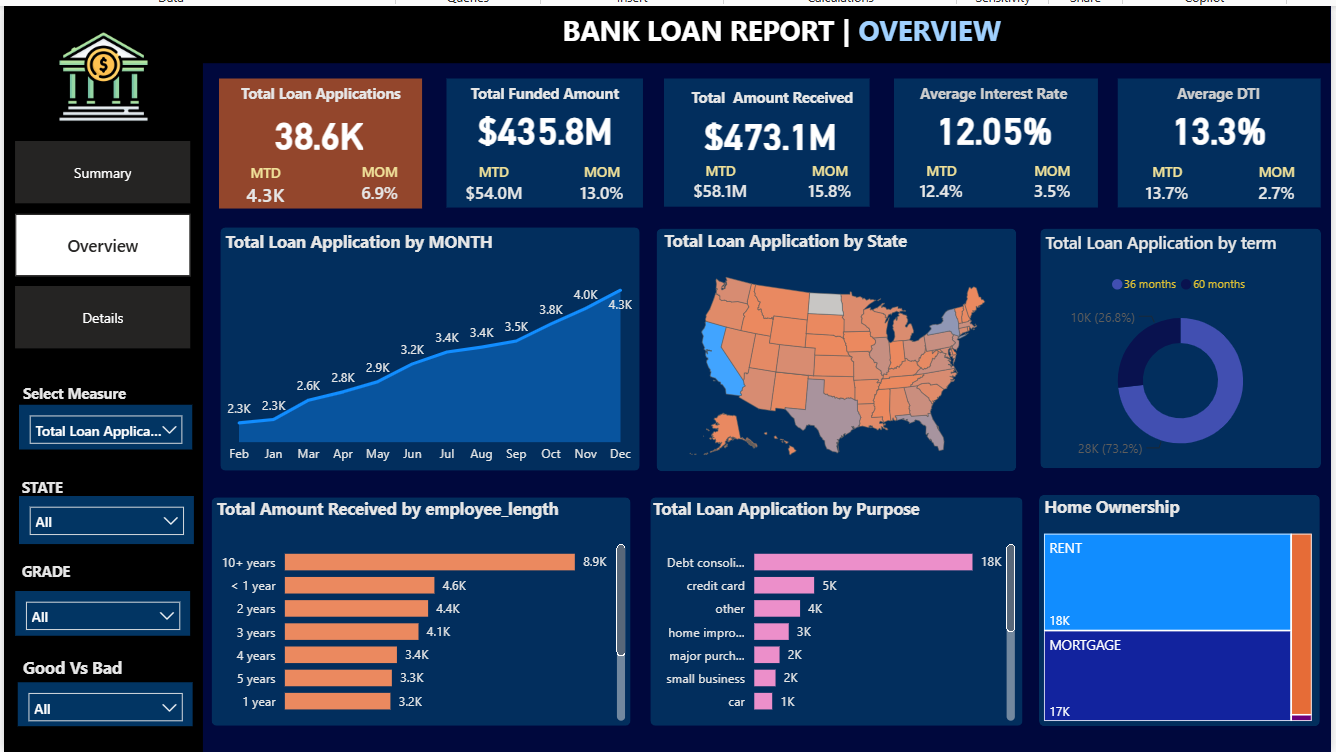

Layout of this report page (visuals, bound fields, positions):
{"tool":"powerbi","page":{"name":"Overview","canvas":[1280,720],"ordinal":1},"visuals":[{"type":"shape","box":[0,0,192.3,720.8],"z":0},{"type":"shape","box":[208.5,69.9,196.3,125.5],"z":0,"group":"g1"},{"type":"shape","box":[426.9,69.9,189.6,124.6],"z":0,"group":"g2"},{"type":"shape","box":[636.8,69.9,198.4,123.7],"z":0,"group":"g3"},{"type":"shape","box":[858.3,69.9,197,124.5],"z":0,"group":"g4"},{"type":"shape","box":[1075,69.9,195.9,124.4],"z":0,"group":"g5"},{"type":"shape","box":[0,0,1280.3,54.9],"z":1000},{"type":"cardVisual","fields":{"Data":["Bank_Loan_Data.Total Loan Application"]},"box":[208,78.1,193.7,92.8],"z":1000,"group":"g1"},{"type":"cardVisual","fields":{"Data":["Bank_Loan_Data.Total Funded Amount"]},"box":[426.6,88,190.9,64.9],"z":1000,"group":"g2"},{"type":"cardVisual","fields":{"Data":["Bank_Loan_Data.AVG Interest Rate"]},"box":[856.3,88.1,198.3,64.6],"z":1000,"group":"g4"},{"type":"cardVisual","fields":{"Data":["Bank_Loan_Data.AVG DTI"]},"box":[1074.5,88.2,195.8,64.6],"z":1000,"group":"g5"},{"type":"cardVisual","fields":{"Data":["Bank_Loan_Data.Total Amount Received"]},"box":[642.4,95.8,193.3,61.4],"z":1000,"group":"g3"},{"type":"textbox","box":[208.5,69.9,196.3,32],"z":2000,"group":"g1"},{"type":"textbox","box":[426.9,69.9,189.6,31.8],"z":2000,"group":"g2"},{"type":"textbox","box":[856.6,70.1,196.9,31.7],"z":2000,"group":"g4"},{"type":"textbox","box":[1074.8,70.2,194.5,31.6],"z":2000,"group":"g5"},{"type":"textbox","box":[645.2,74,192,30.1],"z":2000,"group":"g3"},{"type":"shape","box":[208.4,213.8,405,235],"z":2000},{"type":"cardVisual","title":"MTD","fields":{"Data":["Bank_Loan_Data.MTD Amount Received"]},"box":[655.2,150,73,41.3],"z":3000,"group":"g3"},{"type":"cardVisual","title":"MTD","fields":{"Data":["Bank_Loan_Data.MTD AVG Interest Rate"]},"box":[866.9,150.1,74.8,43.5],"z":3000,"group":"g4"},{"type":"cardVisual","title":"MTD","fields":{"Data":["Bank_Loan_Data.MTD AVG DTI"]},"box":[1085,150.2,73.9,43.5],"z":3000,"group":"g5"},{"type":"cardVisual","title":"MTD","fields":{"Data":["Bank_Loan_Data.MTD Funded Amount"]},"box":[436.8,150.3,72.1,43.7],"z":3000,"group":"g2"},{"type":"cardVisual","title":"MTD","fields":{"Data":["Bank_Loan_Data.MTD Loan Applications"]},"box":[217.6,151.3,70.7,44.1],"z":3000,"group":"g1"},{"type":"textbox","box":[12.3,449.5,84.4,50.4],"z":3000},{"type":"textbox","box":[192.3,0,1088,55.1],"z":4000},{"type":"cardVisual","title":"MOM","fields":{"Data":["Bank_Loan_Data.MoM Total Amount Received"]},"box":[758.3,150,76.8,42.6],"z":4000,"group":"g3"},{"type":"cardVisual","title":"MOM","fields":{"Data":["Bank_Loan_Data.MoM AVG Int Rate"]},"box":[972.6,150.1,78.8,44.8],"z":4000,"group":"g4"},{"type":"cardVisual","title":"MOM","fields":{"Data":["Bank_Loan_Data.MoM AVG DTI"]},"box":[1189.4,150.2,77.8,44.8],"z":4000,"group":"g5"},{"type":"cardVisual","title":"MOM","fields":{"Data":["Bank_Loan_Data.MoM Total Funded Amount"]},"box":[538.6,150.3,75.9,45.1],"z":4000,"group":"g2"},{"type":"cardVisual","title":"MOM","fields":{"Data":["Bank_Loan_Data.MoM Loan Application"]},"box":[324.1,150.9,78.5,45.4],"z":4000,"group":"g1"},{"type":"group","id":"g1","title":"Group 1","box":[208,69.9,196.8,126.4],"z":5000},{"type":"group","id":"g2","title":"Group 1","box":[426.6,69.9,191,126.4],"z":6000},{"type":"group","id":"g3","title":"Group 1","box":[636.8,69.9,200.4,123.7],"z":7000},{"type":"group","id":"g4","title":"Group 1","box":[856.3,69.9,199,125.1],"z":8000},{"type":"group","id":"g5","title":"Group 1","box":[1074.5,69.9,196.3,125.1],"z":9000},{"type":"slicer","fields":{"Values":["Bank_Loan_Data.address_state"]},"box":[15,473.5,168.9,46.3],"z":10000},{"type":"slicer","fields":{"Values":["Bank_Loan_Data.grade"]},"box":[10.9,564.3,168.9,43.6],"z":11000},{"type":"textbox","box":[12.3,531.2,84.4,77.6],"z":12000},{"type":"textbox","box":[13.6,622.4,168.9,42.2],"z":13000},{"type":"slicer","fields":{"Values":["Bank_Loan_Data.Good Loan VS Bad Loan"]},"box":[13.6,652.4,168.9,42.2],"z":14000},{"type":"areaChart","title":"Total Loan Application by MONTH","fields":{"Y":["Bank_Loan_Data.Total Loan Application"],"Category":["Date_Table.MONTH"]},"box":[209.3,216.1,404.8,234],"z":15000},{"type":"slicer","fields":{"Values":["Parameter.Parameter"]},"box":[15,385.4,167.5,43.6],"z":16000},{"type":"textbox","box":[13.6,359.6,140.3,58.6],"z":17000},{"type":"shape","box":[629.2,215.2,347.3,234.3],"z":18000},{"type":"shapeMap","title":"Total Loan Application by State","fields":{"Value":["Bank_Loan_Data.Total Loan Application"],"Category":["Bank_Loan_Data.address_state"]},"box":[632,215.2,344.6,232.9],"z":19000},{"type":"shape","box":[999.7,215.2,271,231.5],"z":20000},{"type":"donutChart","fields":{"Y":["Bank_Loan_Data.Total Loan Application"],"Category":["Bank_Loan_Data.term"]},"box":[999.7,216.6,271,230.2],"z":21000},{"type":"shape","box":[200.2,474,404.5,220.6],"z":22000},{"type":"shape","box":[623.8,474,359.6,220.6],"z":23000},{"type":"shape","box":[998.3,471.3,271,223.4],"z":24000},{"type":"barChart","title":"Total Amount Received by employee_length","fields":{"Y":["Bank_Loan_Data.Total Loan Application"],"Category":["Bank_Loan_Data.emp_length"]},"box":[200.2,474,404.5,220.6],"z":25000},{"type":"barChart","title":"Total Loan Application by Purpose","fields":{"Y":["Bank_Loan_Data.Total Loan Application"],"Category":["Bank_Loan_Data.purpose"]},"box":[621.8,474,359.6,220.6],"z":26000},{"type":"treemap","title":"Home Ownership","fields":{"Values":["Bank_Loan_Data.Total Loan Application"],"Group":["Bank_Loan_Data.home_ownership"]},"box":[998.3,471.3,268.3,223.4],"z":27000},{"type":"pageNavigator","box":[10.9,130.8,169.8,200.8],"z":28000},{"type":"image","box":[10.9,23.4,169.8,90.3],"z":29000}]}

Visuals, with their boxes on the page's 1280x720 design canvas (x1, y1, x2, y2). These are canvas units, not pixel positions in the 1336x752 screenshot, which may show the page scaled, cropped or inside an application window:
shape: rect(0, 0, 192, 721)
shape: rect(208, 70, 405, 195)
shape: rect(427, 70, 616, 194)
shape: rect(637, 70, 835, 194)
shape: rect(858, 70, 1055, 194)
shape: rect(1075, 70, 1271, 194)
shape: rect(0, 0, 1280, 55)
cardVisual - Bank_Loan_Data.Total Loan Application: rect(208, 78, 402, 171)
cardVisual - Bank_Loan_Data.Total Funded Amount: rect(427, 88, 618, 153)
cardVisual - Bank_Loan_Data.AVG Interest Rate: rect(856, 88, 1055, 153)
cardVisual - Bank_Loan_Data.AVG DTI: rect(1074, 88, 1270, 153)
cardVisual - Bank_Loan_Data.Total Amount Received: rect(642, 96, 836, 157)
textbox: rect(208, 70, 405, 102)
textbox: rect(427, 70, 616, 102)
textbox: rect(857, 70, 1054, 102)
textbox: rect(1075, 70, 1269, 102)
textbox: rect(645, 74, 837, 104)
shape: rect(208, 214, 613, 449)
"MTD" cardVisual: rect(655, 150, 728, 191)
"MTD" cardVisual: rect(867, 150, 942, 194)
"MTD" cardVisual: rect(1085, 150, 1159, 194)
"MTD" cardVisual: rect(437, 150, 509, 194)
"MTD" cardVisual: rect(218, 151, 288, 195)
textbox: rect(12, 450, 97, 500)
textbox: rect(192, 0, 1280, 55)
"MOM" cardVisual: rect(758, 150, 835, 193)
"MOM" cardVisual: rect(973, 150, 1051, 195)
"MOM" cardVisual: rect(1189, 150, 1267, 195)
"MOM" cardVisual: rect(539, 150, 614, 195)
"MOM" cardVisual: rect(324, 151, 403, 196)
"Group 1" group: rect(208, 70, 405, 196)
"Group 1" group: rect(427, 70, 618, 196)
"Group 1" group: rect(637, 70, 837, 194)
"Group 1" group: rect(856, 70, 1055, 195)
"Group 1" group: rect(1074, 70, 1271, 195)
slicer - Bank_Loan_Data.address_state: rect(15, 474, 184, 520)
slicer - Bank_Loan_Data.grade: rect(11, 564, 180, 608)
textbox: rect(12, 531, 97, 609)
textbox: rect(14, 622, 182, 665)
slicer - Bank_Loan_Data.Good Loan VS Bad Loan: rect(14, 652, 182, 695)
"Total Loan Application by MONTH" areaChart: rect(209, 216, 614, 450)
slicer - Parameter.Parameter: rect(15, 385, 182, 429)
textbox: rect(14, 360, 154, 418)
shape: rect(629, 215, 976, 450)
"Total Loan Application by State" shapeMap: rect(632, 215, 977, 448)
shape: rect(1000, 215, 1271, 447)
donutChart - Bank_Loan_Data.Total Loan Application x Bank_Loan_Data.term: rect(1000, 217, 1271, 447)
shape: rect(200, 474, 605, 695)
shape: rect(624, 474, 983, 695)
shape: rect(998, 471, 1269, 695)
"Total Amount Received by employee_length" barChart: rect(200, 474, 605, 695)
"Total Loan Application by Purpose" barChart: rect(622, 474, 981, 695)
"Home Ownership" treemap: rect(998, 471, 1267, 695)
pageNavigator: rect(11, 131, 181, 332)
image: rect(11, 23, 181, 114)
